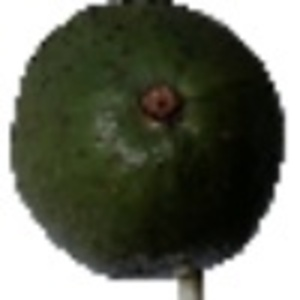abacate: (5, 3, 291, 277)
